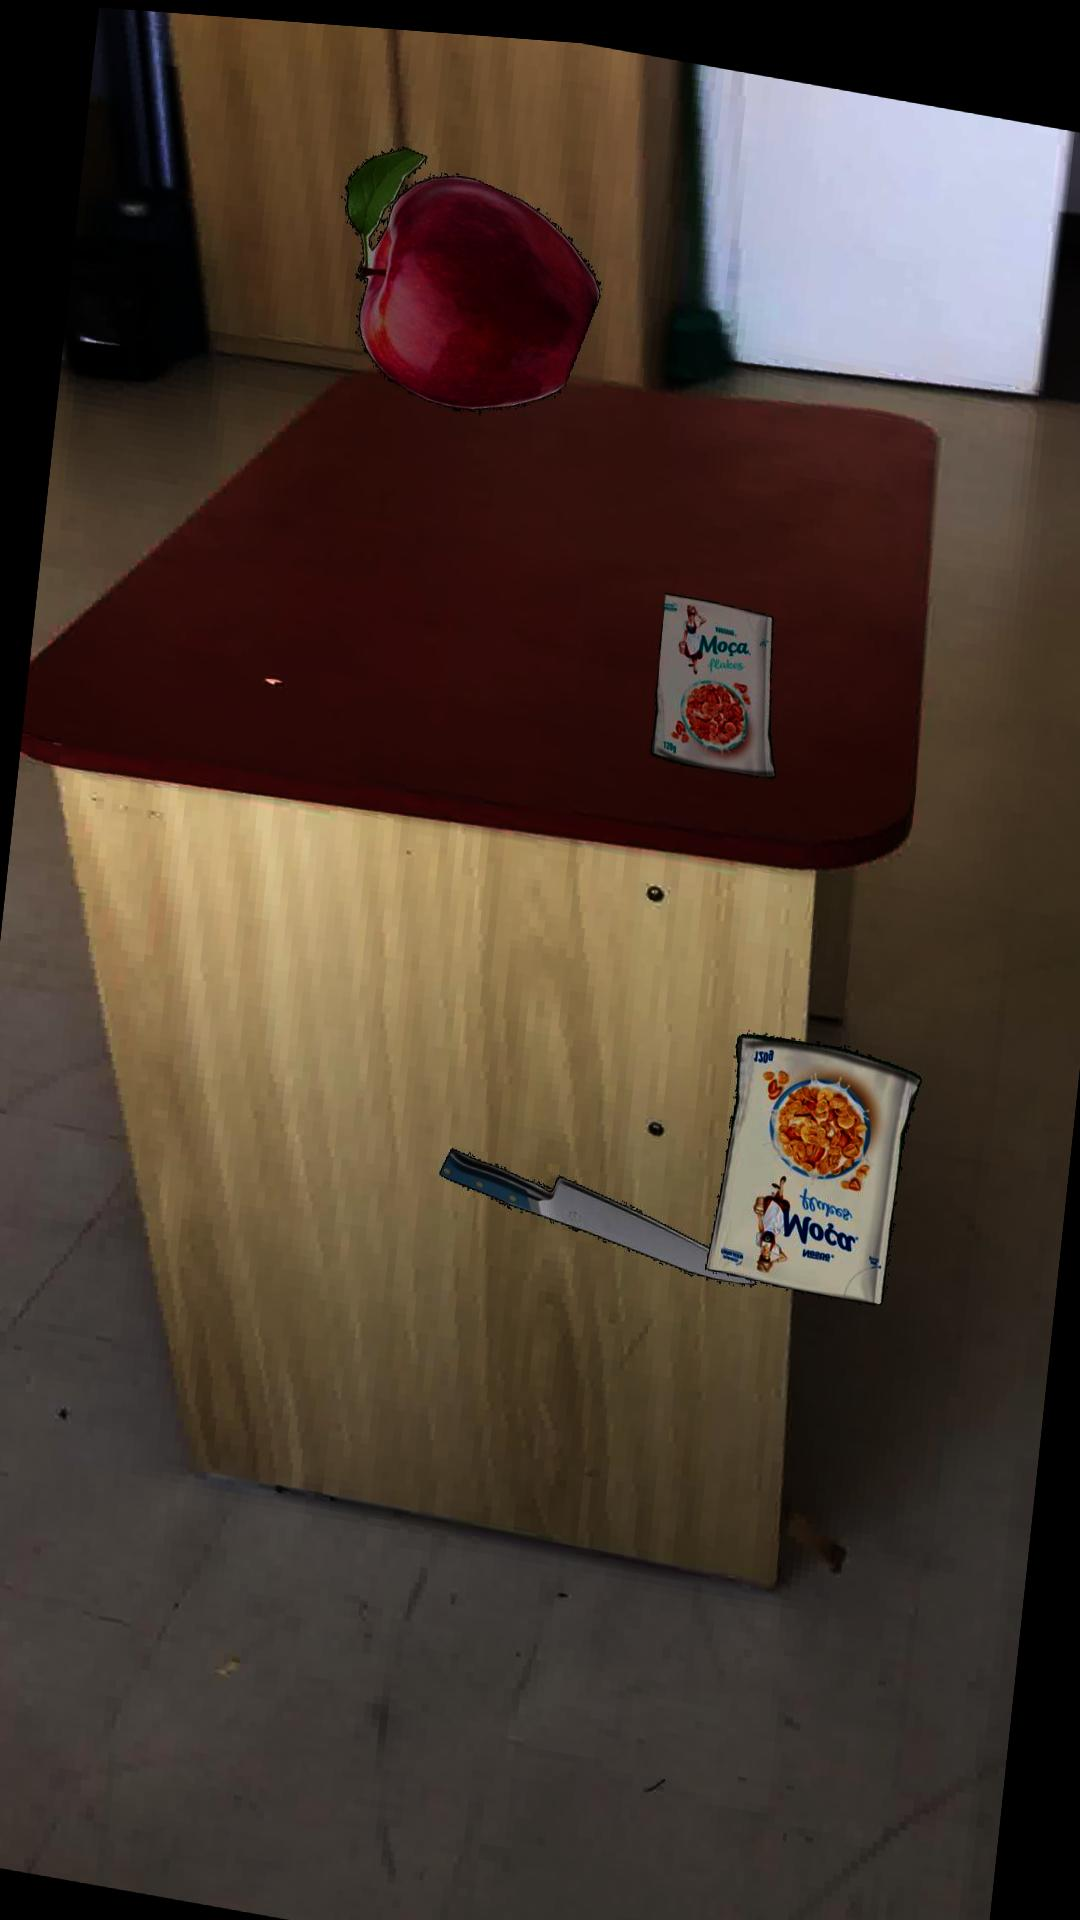apple: (343, 138, 599, 402)
corn flakes: (703, 1018, 919, 1288), (649, 580, 774, 764)
knife: (438, 1138, 754, 1271)
